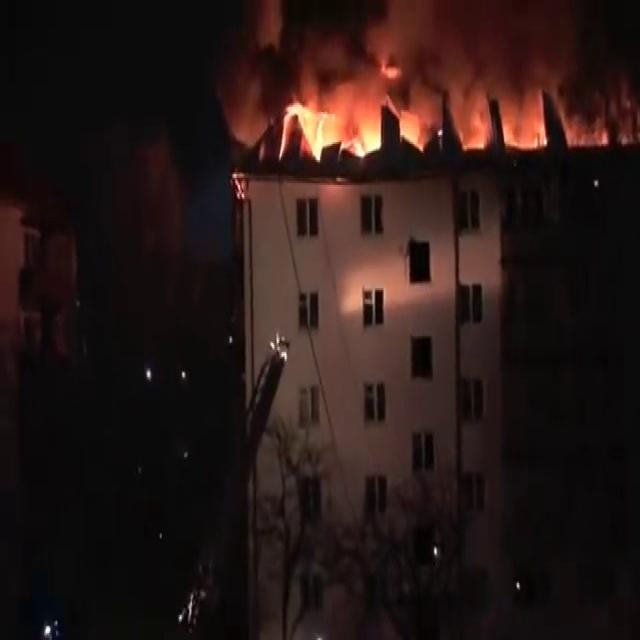Fire: (280, 79, 396, 172), (420, 88, 548, 166)
Smoke: (204, 0, 614, 137)
